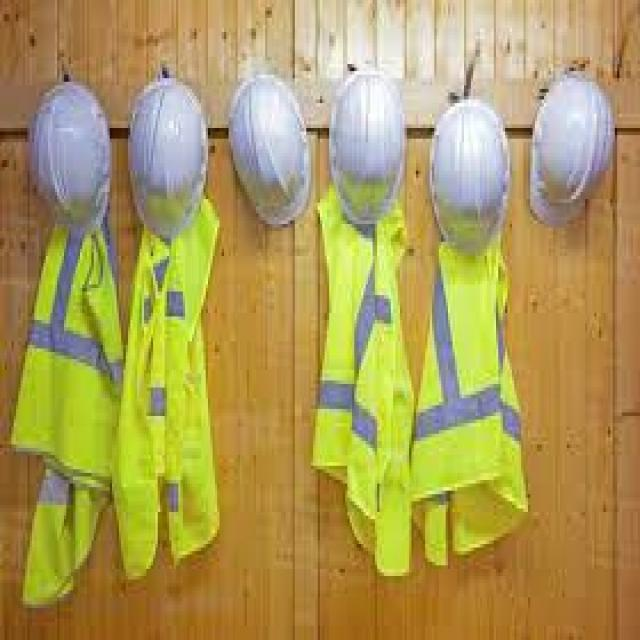construction-vest: (118, 204, 221, 580), (315, 195, 416, 574), (409, 232, 526, 544), (14, 220, 125, 484)
helmet: (126, 70, 210, 238), (528, 70, 616, 223), (227, 69, 314, 223), (428, 98, 511, 252), (31, 78, 114, 227), (328, 70, 408, 222)
